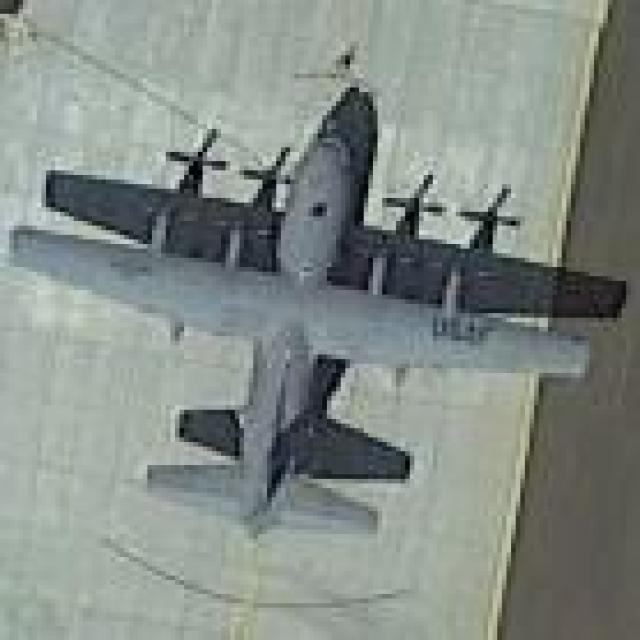C-130_TopDown: (7, 78, 637, 557)
